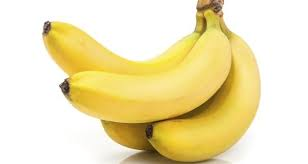Banana: (38, 1, 267, 163)
